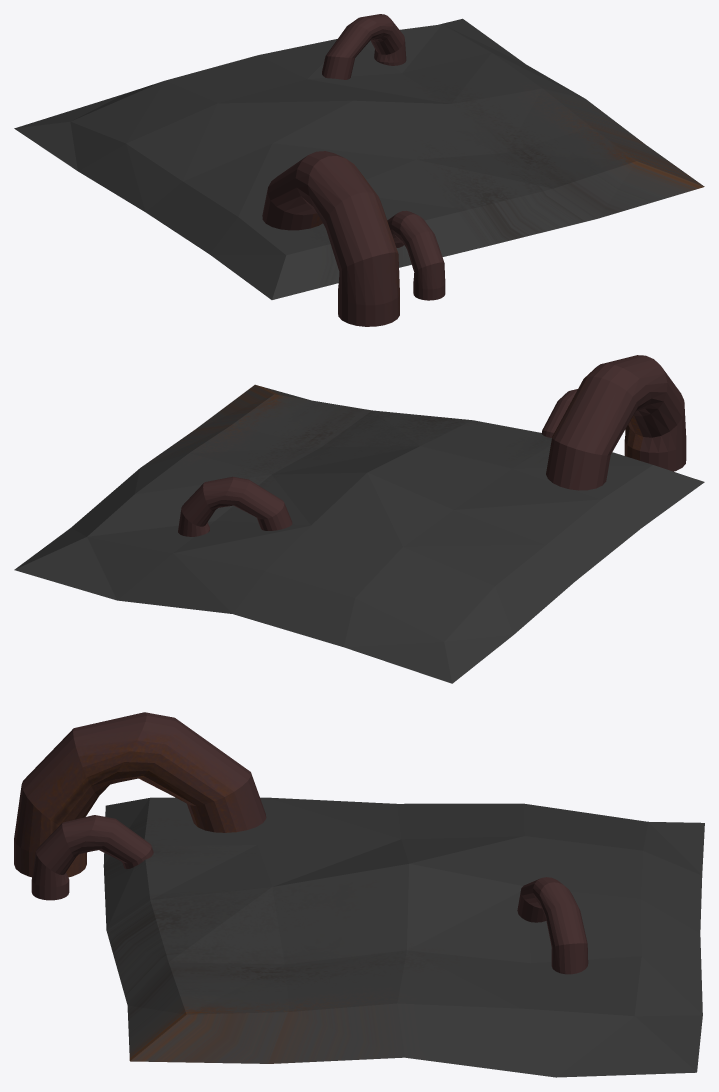
Rendered from ServerBroken_3D.fbx.
The picture shows the model from 3 angles, top to bottom: view 1: azimuth 30°, elevation 25°; view 2: azimuth 150°, elevation 25°; view 3: azimuth 270°, elevation 25°; orthographic projection. The views are drawn at different scales.
Visible parts, largest first — view 1: Plane; view 2: Plane; view 3: Plane.
Part boxes in pixels (x1=…): Plane: x1=14, y1=14, x2=704, y2=326; Plane: x1=14, y1=355, x2=704, y2=683; Plane: x1=14, y1=712, x2=704, y2=1077.
Size of the model in its own units: 497 by 136 by 567.
